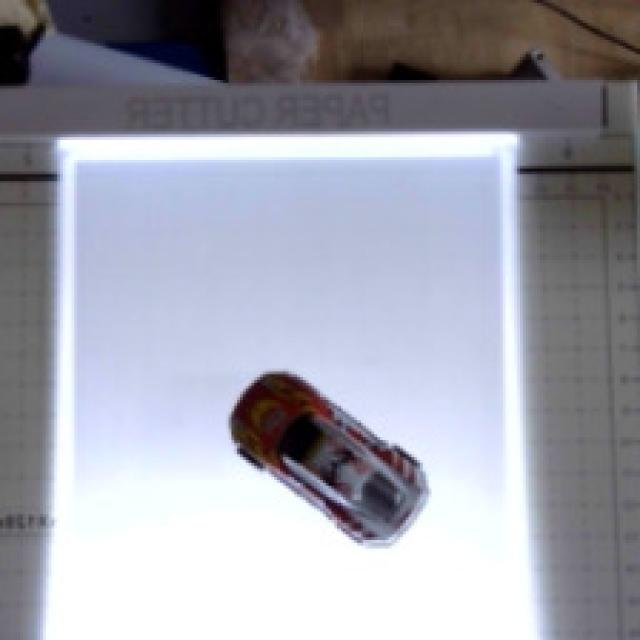Red Car: (182, 347, 464, 584)
